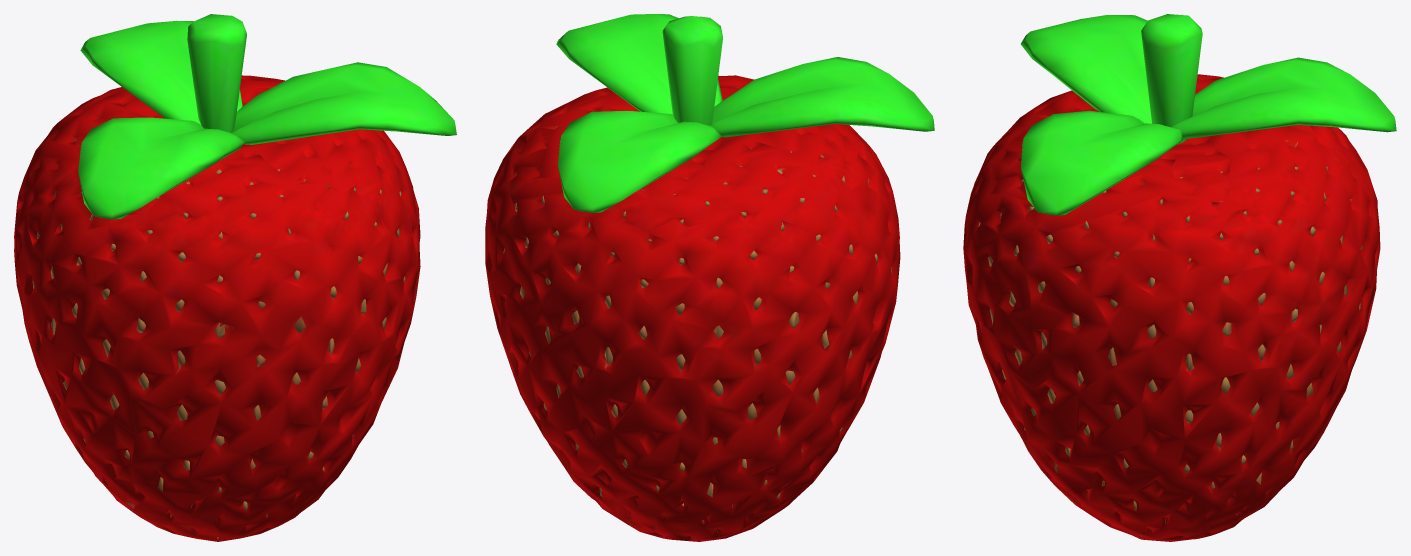
File: strawberry.fbx
3 renders of one model, left to right at view 1: azimuth 30°, elevation 25°; view 2: azimuth 150°, elevation 25°; view 3: azimuth 270°, elevation 25°, orthographic.
Parts seen in each view (by area): view 1: StrawBerry; view 2: StrawBerry; view 3: StrawBerry.
Boxes of the visible parts, box(x1,y1,x2,y2) form: StrawBerry: box(14, 14, 456, 541); StrawBerry: box(485, 14, 934, 541); StrawBerry: box(963, 14, 1396, 541).
Bounding box in the file's own units: 125 × 167 × 129.
1 material, 1 textured.
